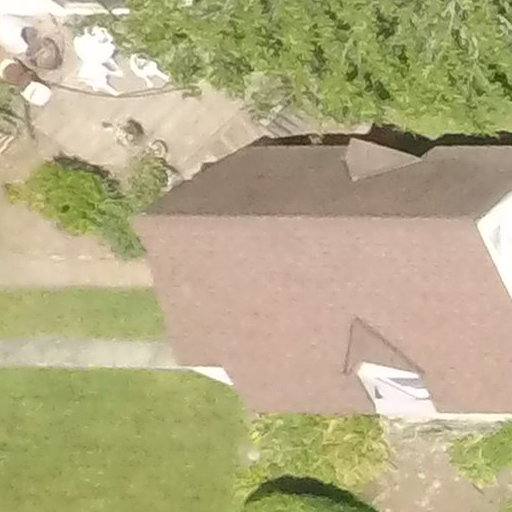flower pot: (152, 159, 185, 195)
